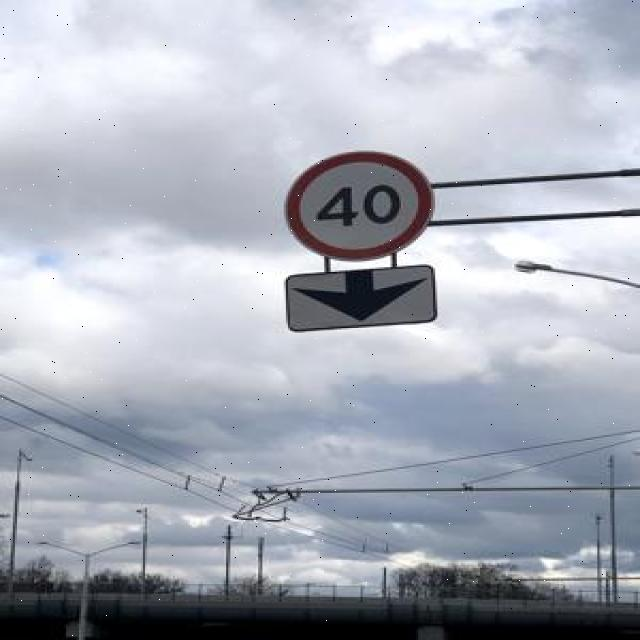speed limit 40: (286, 151, 435, 262)
